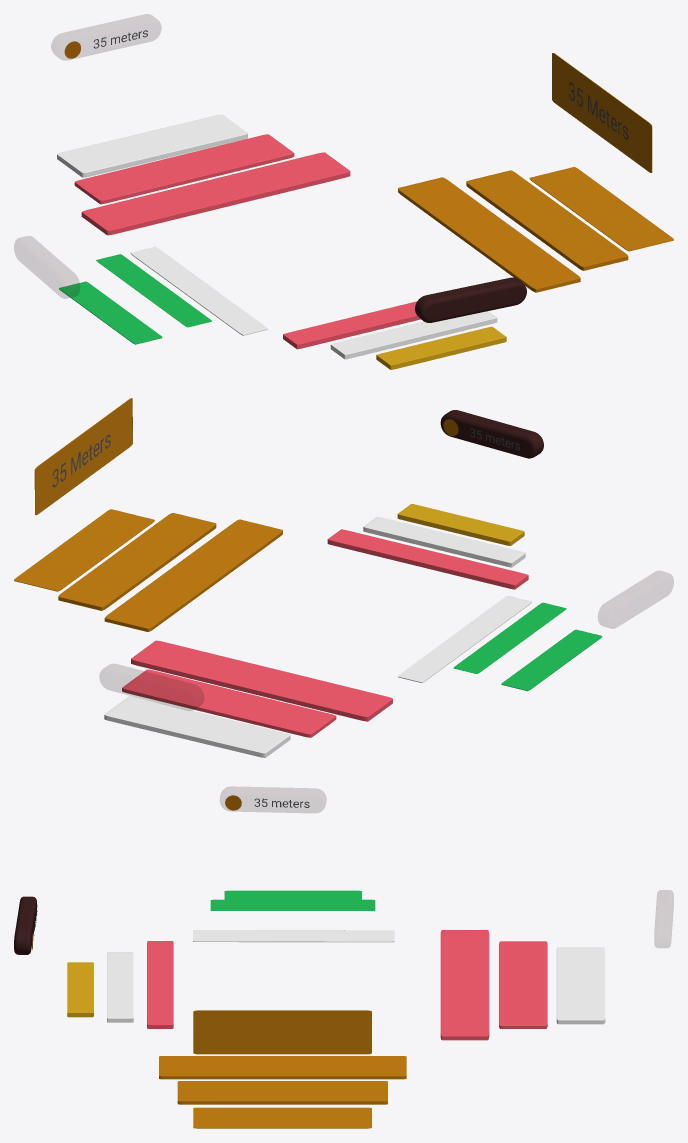
The model's file is jump_domi9.gltf.
3 renders of one model, top to bottom at view 1: azimuth 30°, elevation 25°; view 2: azimuth 150°, elevation 25°; view 3: azimuth 270°, elevation 25°, orthographic. The views are drawn at different scales.
Parts seen in each view (by area): view 1: Cube right (×3), Cube top (×2), Cube top center, Cube bottom (×3), Cube left (×3), Rectangle (×3), Cube right center; view 2: Cube right (×3), Cube top (×2), Cube bottom (×3), Cube top center, Rectangle (×3), Cube left (×3), Cube right center; view 3: Cube right (×3), Cube top (×2), Cube right center, Cube left (×3), Cube bottom (×3), Cube top center, Rectangle (×3).
Boxes of the visible parts, bbox=[...] form: Cube right (×3): bbox=[466, 53, 673, 270]; Cube top (×2): bbox=[57, 114, 294, 204]; Cube top center: bbox=[81, 152, 350, 235]; Cube bottom (×3): bbox=[283, 301, 506, 369]; Cube left (×3): bbox=[59, 246, 267, 344]; Rectangle (×3): bbox=[14, 14, 526, 322]; Cube right center: bbox=[398, 177, 580, 292]; Cube right (×3): bbox=[14, 398, 216, 610]; Cube top (×2): bbox=[104, 669, 336, 757]; Cube bottom (×3): bbox=[327, 504, 528, 589]; Cube top center: bbox=[131, 640, 392, 721]; Rectangle (×3): bbox=[100, 410, 673, 710]; Cube left (×3): bbox=[398, 596, 602, 691]; Cube right center: bbox=[104, 519, 282, 631]; Cube right (×3): bbox=[177, 1010, 387, 1128]; Cube top (×2): bbox=[499, 941, 605, 1028]; Cube right center: bbox=[159, 1056, 406, 1079]; Cube left (×3): bbox=[193, 890, 394, 942]; Cube bottom (×3): bbox=[67, 941, 173, 1028]; Cube top center: bbox=[440, 930, 489, 1040]; Rectangle (×3): bbox=[14, 787, 673, 954].
Size of the model in its own units: 15.2 by 2.95 by 16.33.
